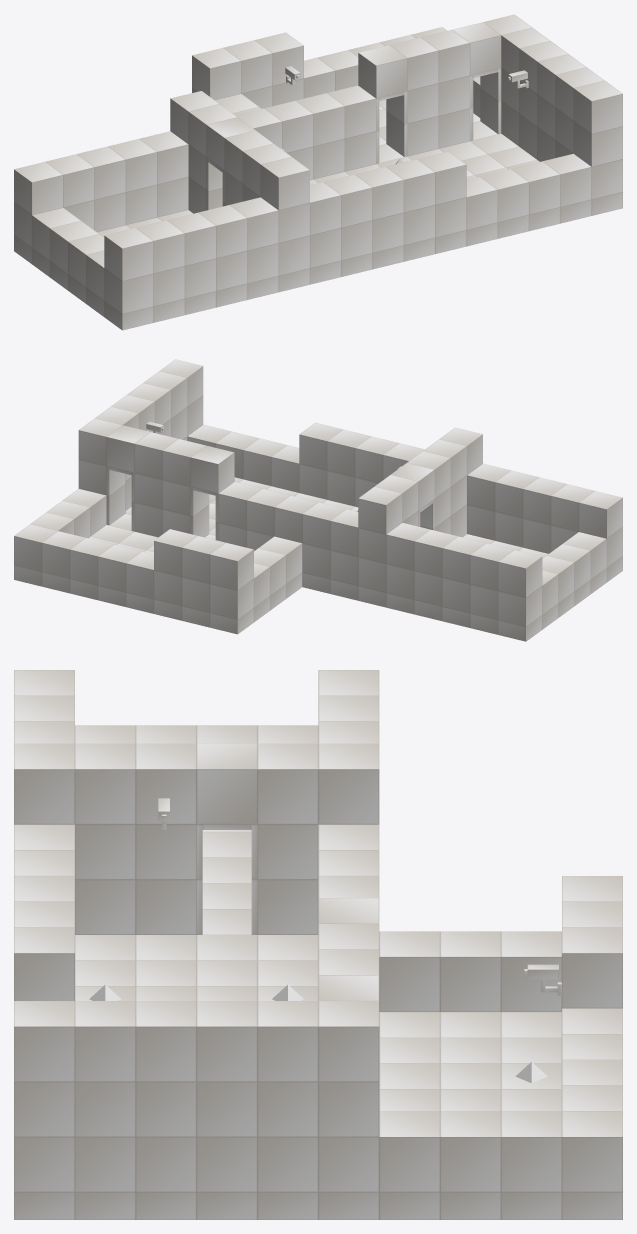
File: Test-Level-001.FBX
The picture shows the model from 3 angles, top to bottom: view 1: azimuth 30°, elevation 25°; view 2: azimuth 150°, elevation 25°; view 3: azimuth 270°, elevation 25°; orthographic projection. The views are drawn at different scales.
Parts seen in each view (by area): view 1: COLLIDE-WallType03-006, COLLIDE-WallType03-005, mesh_wall_010, DoorType01-002, COLLIDE-WallType03-013, COLLIDE-WallType03-012, DoorType01-003, mesh_wall_011, mesh_wall_017, mesh_wall_005, mesh_wall_009, mesh_wall_003 (+57 smaller); view 2: COLLIDE-WallType03-002, mesh_wall_042, mesh_wall_011, COLLIDE-WallType03-013, DoorType01-002, COLLIDE-WallType03-012, DoorType01-003, mesh_wall_010, mesh_wall_009, mesh_wall_015, COLLIDE-WallType03-009, mesh_wall_007 (+63 smaller); view 3: COLLIDE-WallType03-001, COLLIDE-WallType03-008, COLLIDE-WallType03-010, COLLIDE-WallType03-011, COLLIDE-WallType03-009, COLLIDE-WallType03-004, COLLIDE-WallType03-006, COLLIDE-WallType03-007, COLLIDE-WallType03-003, DoorType01-001, mesh_wall_025, mesh_wall_026 (+73 smaller).
Part boxes in pixels (bbox=[...]): COLLIDE-WallType03-006: bbox=[573, 80, 622, 199]; COLLIDE-WallType03-005: bbox=[260, 157, 309, 275]; mesh_wall_010: bbox=[104, 228, 153, 313]; DoorType01-002: bbox=[358, 45, 407, 163]; COLLIDE-WallType03-013: bbox=[421, 30, 469, 148]; COLLIDE-WallType03-012: bbox=[390, 37, 438, 156]; DoorType01-003: bbox=[452, 22, 501, 140]; mesh_wall_011: bbox=[14, 162, 63, 247]; mesh_wall_017: bbox=[230, 197, 278, 283]; mesh_wall_005: bbox=[136, 220, 184, 306]; mesh_wall_009: bbox=[139, 131, 188, 217]; mesh_wall_003: bbox=[198, 205, 247, 290]; COLLIDE-WallType03-002: bbox=[358, 486, 402, 592]; mesh_wall_042: bbox=[209, 542, 253, 619]; mesh_wall_011: bbox=[498, 550, 542, 626]; COLLIDE-WallType03-013: bbox=[134, 432, 178, 537]; DoorType01-002: bbox=[190, 445, 234, 540]; COLLIDE-WallType03-012: bbox=[162, 439, 205, 533]; DoorType01-003: bbox=[106, 425, 149, 531]; mesh_wall_010: bbox=[579, 491, 622, 567]; mesh_wall_009: bbox=[386, 522, 429, 599]; mesh_wall_015: bbox=[302, 502, 345, 579]; COLLIDE-WallType03-009: bbox=[78, 418, 122, 495]; mesh_wall_007: bbox=[442, 536, 485, 613]; COLLIDE-WallType03-001: bbox=[257, 743, 318, 934]; COLLIDE-WallType03-008: bbox=[257, 1001, 318, 1192]; COLLIDE-WallType03-010: bbox=[135, 1001, 196, 1192]; COLLIDE-WallType03-011: bbox=[196, 1001, 257, 1192]; COLLIDE-WallType03-009: bbox=[318, 1001, 379, 1192]; COLLIDE-WallType03-004: bbox=[75, 743, 135, 934]; COLLIDE-WallType03-006: bbox=[14, 1001, 74, 1192]; COLLIDE-WallType03-007: bbox=[75, 1001, 135, 1192]; COLLIDE-WallType03-003: bbox=[135, 743, 196, 934]; DoorType01-001: bbox=[196, 743, 257, 934]; mesh_wall_025: bbox=[379, 1111, 440, 1192]; mesh_wall_026: bbox=[440, 1111, 501, 1192].
Size of the model in its own units: 160 by 35 by 100.
1 material, 1 textured.
